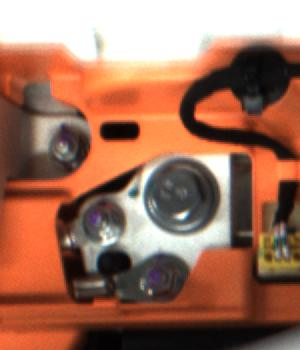nut_b: (136, 152, 222, 239)
